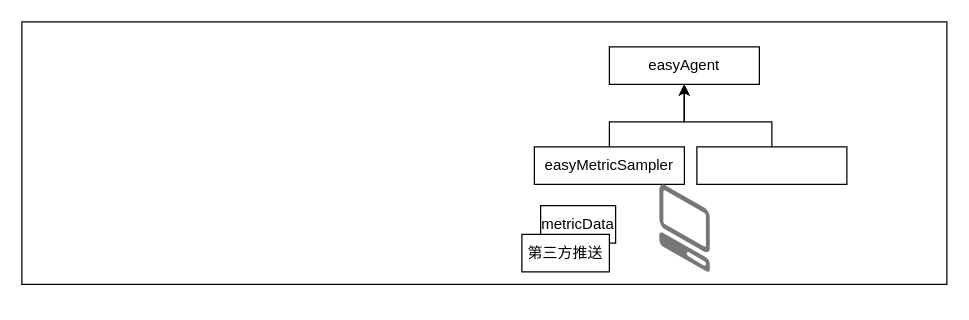
This 969x320 diagram has some shape labels left out. Each missing label, with the centre of its shape:
"easyProcessSampler" belongs at point (771, 165).
"资产设备1" belongs at point (684, 227).
